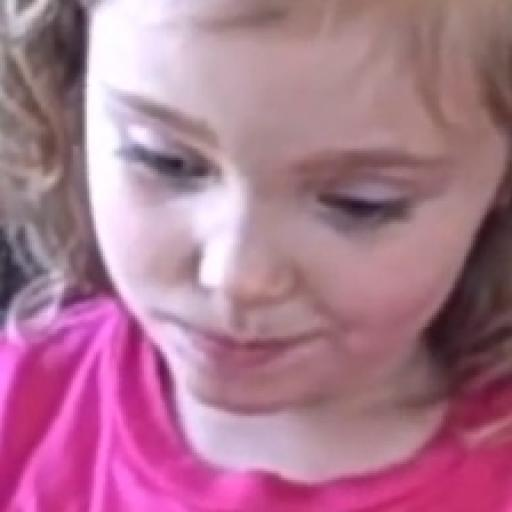Autism: (50, 18, 512, 464)
